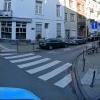crosswalks: (1, 52, 76, 85)
